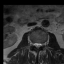CCS_normal: (36, 40, 38, 51)
LFS_normal: (41, 41, 43, 48)
LLS_normal: (38, 40, 41, 49)
RFS_normal: (31, 40, 34, 48)
RLS_normal: (34, 40, 36, 48)
